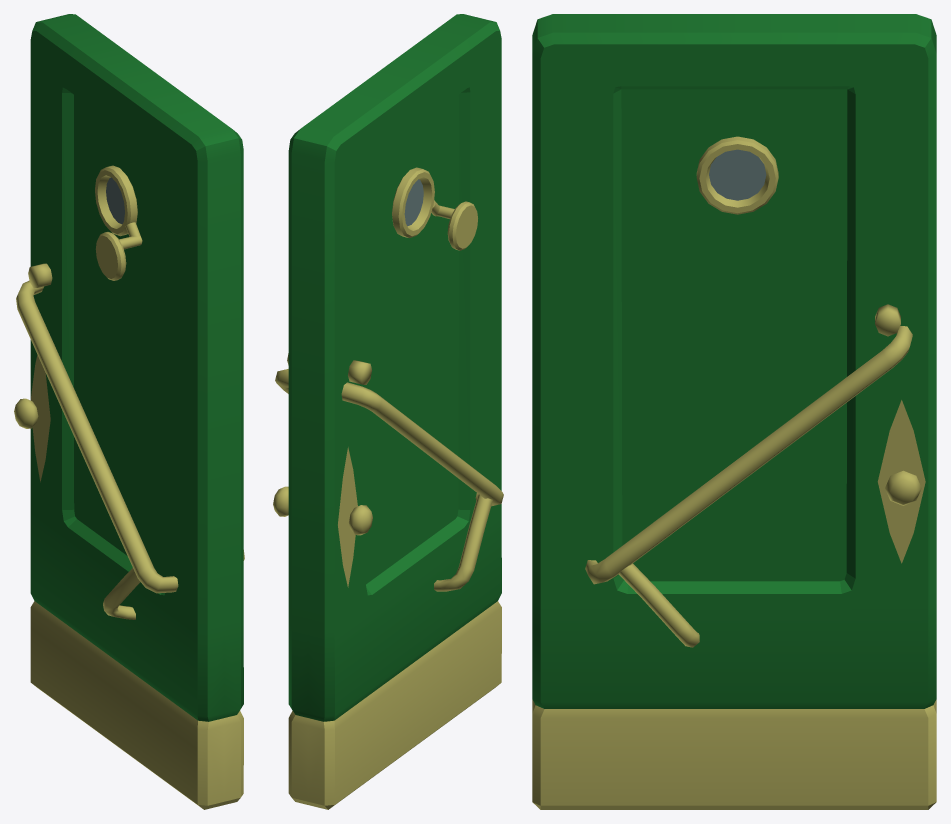
Rendered from ME_SE_GreenDoor.fbx.
The picture shows the model from 3 angles, left to right: view 1: azimuth 30°, elevation 25°; view 2: azimuth 150°, elevation 25°; view 3: azimuth 270°, elevation 25°; orthographic projection. The views are drawn at different scales.
Visible parts, largest first — view 1: ME_SE_GreenDoor; view 2: ME_SE_GreenDoor; view 3: ME_SE_GreenDoor.
Part boxes in pixels (x1,y1,x2,y2): ME_SE_GreenDoor: [14, 14, 244, 809]; ME_SE_GreenDoor: [273, 14, 503, 809]; ME_SE_GreenDoor: [532, 14, 936, 809].
Size of the model in its own units: 4271 by 24966 by 11777.
